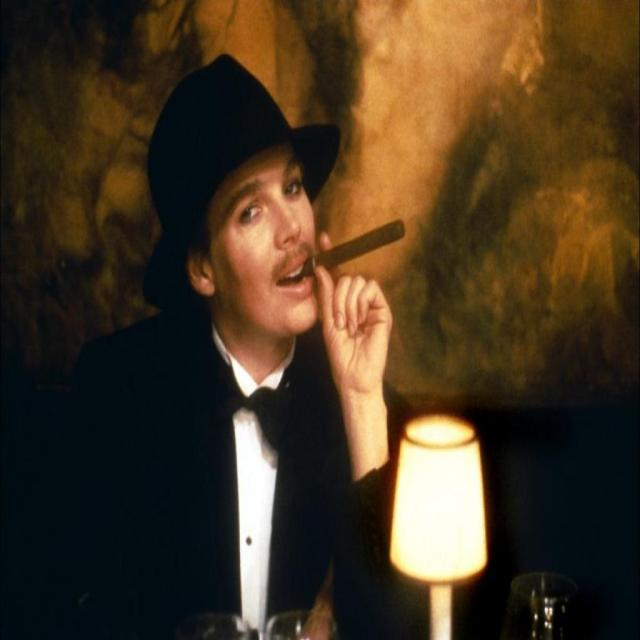smoking: (188, 124, 405, 392)
